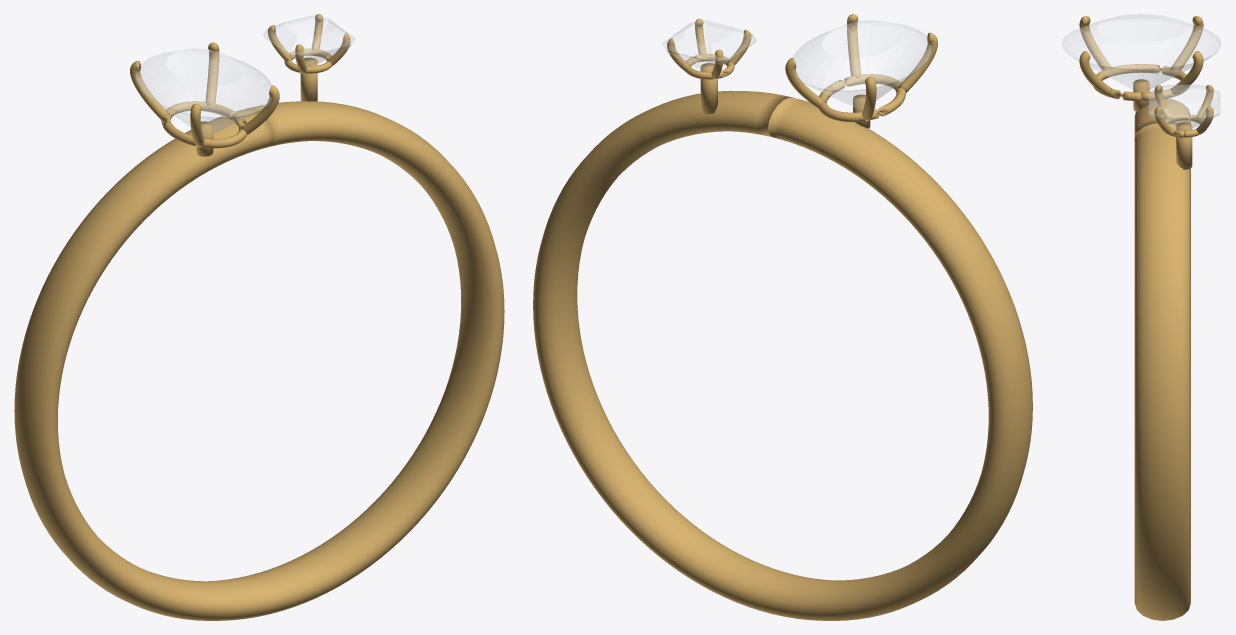
File: layouts-asymmetric.glb
The picture shows the model from 3 angles, left to right: view 1: azimuth 30°, elevation 25°; view 2: azimuth 150°, elevation 25°; view 3: azimuth 270°, elevation 25°; orthographic projection. The views are drawn at different scales.
Parts seen in each view (by area): view 1: Band, Gem, Gem.001, Lower gallery, Prong.001, Prong; view 2: Band, Gem, Gem.001, Lower gallery, Side head support.001, Prong.002, Prong.003; view 3: Band, Gem, Gem.001, Lower gallery, Side head support.001, Prong.001, Prong.002, Prong.003, Prong, Lower gallery.001, Side head support, Prong.006 (+2 smaller).
Boxes of the visible parts, x1,y1,x2,y2 form: Band: [14, 101, 504, 620]; Gem: [136, 49, 271, 135]; Gem.001: [263, 16, 354, 65]; Lower gallery: [161, 101, 246, 148]; Prong.001: [130, 60, 169, 119]; Prong: [205, 42, 219, 105]; Band: [533, 90, 1032, 620]; Gem: [793, 20, 931, 108]; Gem.001: [662, 20, 755, 71]; Lower gallery: [818, 74, 905, 122]; Side head support.001: [700, 63, 717, 114]; Prong.002: [897, 32, 937, 92]; Prong.003: [847, 14, 860, 78]; Band: [1134, 98, 1190, 620]; Gem: [1061, 14, 1221, 90]; Gem.001: [1148, 85, 1219, 129]; Lower gallery: [1093, 64, 1189, 101]; Side head support.001: [1176, 122, 1192, 169]; Prong.001: [1170, 16, 1203, 70]; Prong.002: [1079, 16, 1112, 70]; Prong.003: [1079, 51, 1112, 96]; Prong: [1171, 51, 1203, 96]; Lower gallery.001: [1162, 113, 1206, 137]; Side head support: [1133, 79, 1149, 111]; Prong.006: [1154, 85, 1172, 118].
Size of the model in its own units: 19.6 by 22.25 by 6.
